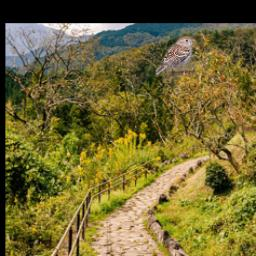Sparrow: (154, 37, 194, 78)
